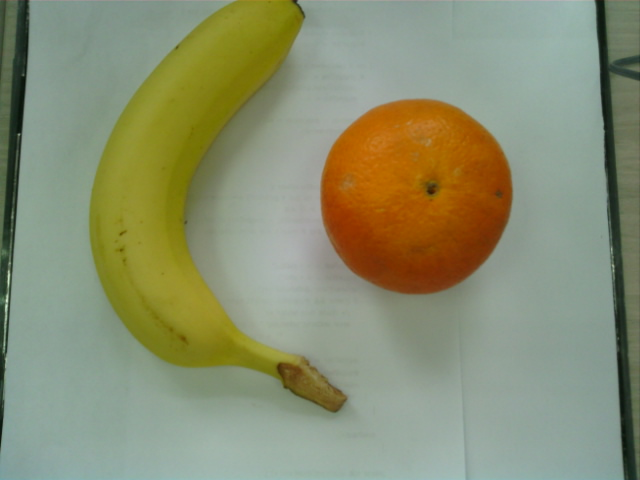normal_banana: (88, 1, 312, 389), (321, 102, 514, 298)
